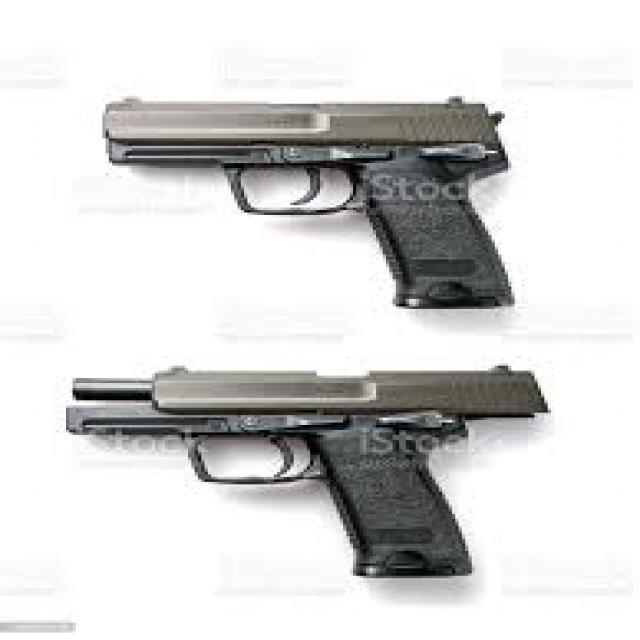semi automatic: (46, 72, 568, 598)
